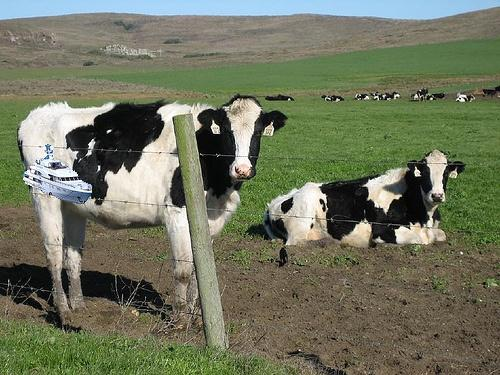tampered: (24, 145, 92, 204)
